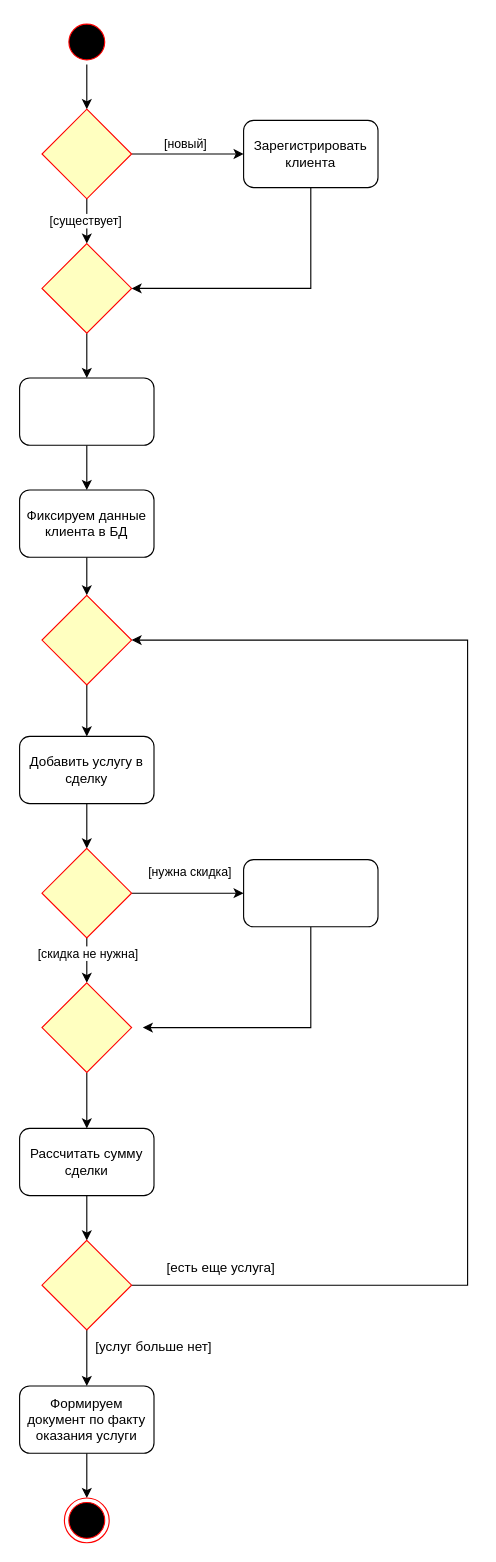
Some shapes in this 496 by 1562 pixel diagram are drawn without their labels. Here are the shapes that lost their labels. From the top down, the box of each, then its label:
(18, 377, 154, 445): Оформить сделку
(242, 858, 378, 927): Применить скидку
